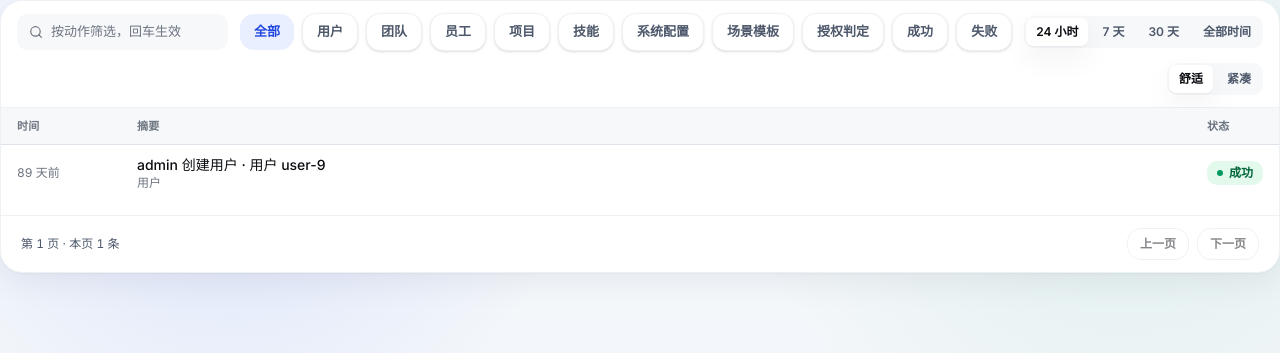
Test case: OperationLogsRoute › opens master-detail on row click
The width and height of the screenshot is (1280, 353).
Click the text "admin 创建用户 · 用户 user-9" at (231, 164), box [137,156,326,173]
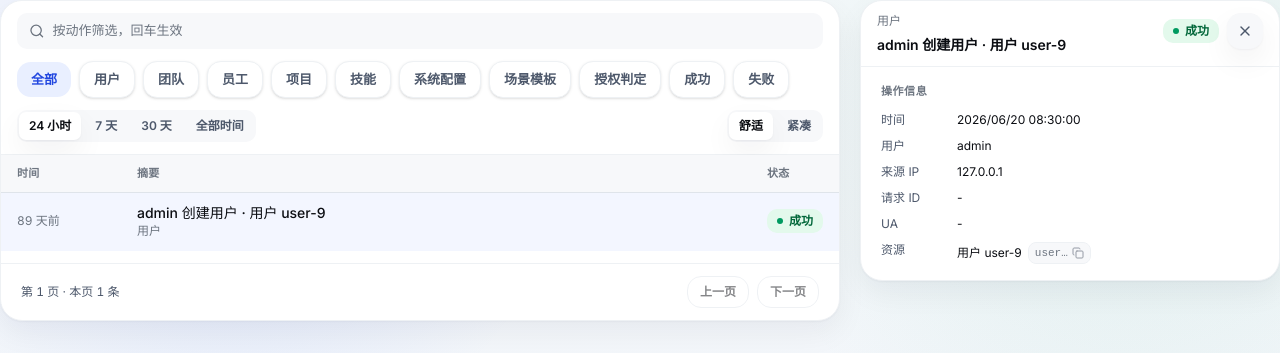
Expected: the element with test id "log-detail" is shown, [860,0,1279,281]
